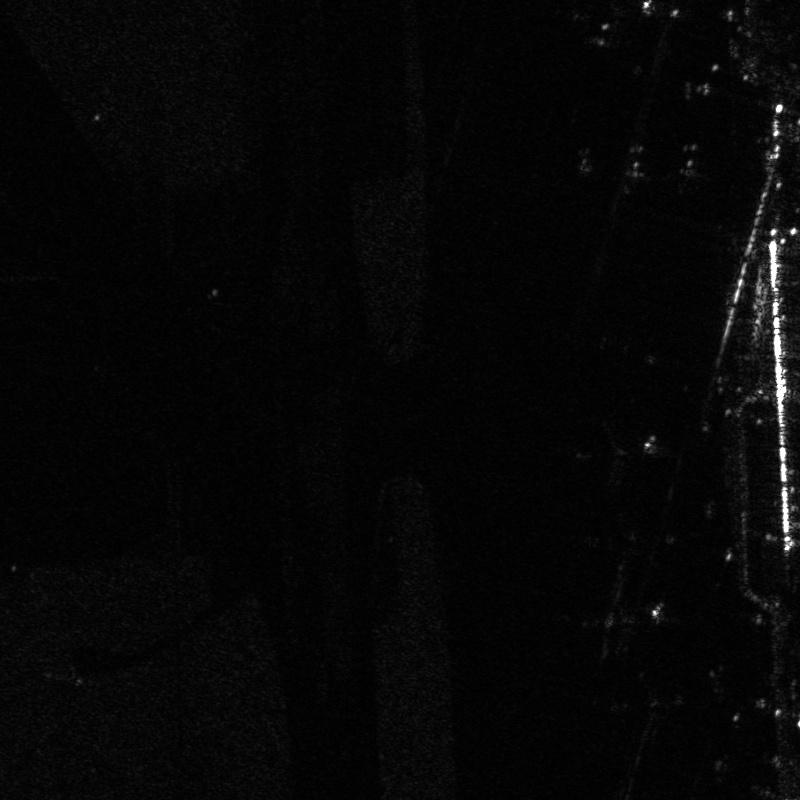A220: (561, 413, 674, 496), (574, 571, 671, 654)
ARJ21: (583, 660, 681, 771)
other: (547, 1, 664, 58)
